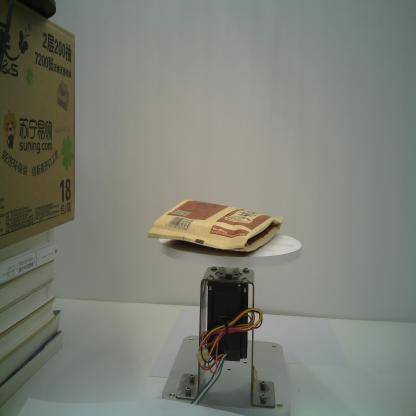Dried Food: (145, 197, 285, 255)
